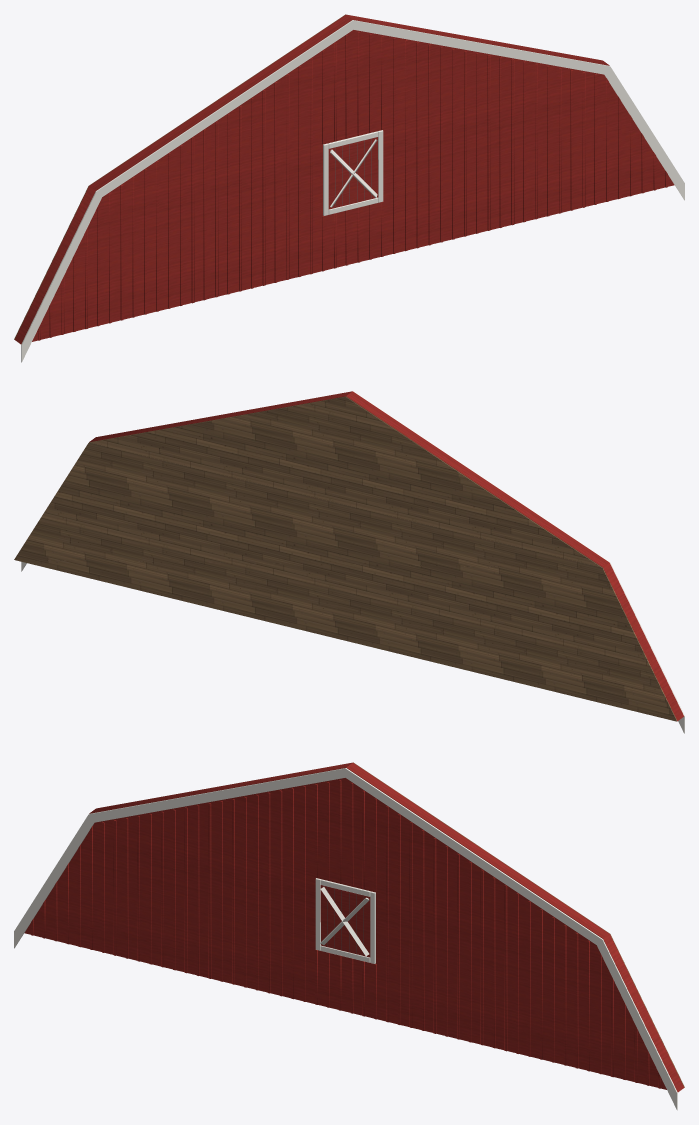
File: barn_gable_back.glb
The picture shows the model from 3 angles, top to bottom: view 1: azimuth 30°, elevation 25°; view 2: azimuth 150°, elevation 25°; view 3: azimuth 330°, elevation 25°; orthographic projection.
Parts seen in each view (by area): view 1: barn_gable_back_barn, barn_gable_back_trim; view 2: barn_gable_back_planks, barn_gable_back_barn, barn_gable_back_trim; view 3: barn_gable_back_barn, barn_gable_back_trim.
Part boxes in pixels (box(x1,y1,x2,y2)): barn_gable_back_barn: box(14, 14, 674, 344); barn_gable_back_trim: box(21, 20, 684, 362); barn_gable_back_planks: box(14, 396, 677, 721); barn_gable_back_barn: box(89, 391, 683, 721); barn_gable_back_trim: box(21, 391, 684, 733); barn_gable_back_barn: box(24, 762, 684, 1092); barn_gable_back_trim: box(14, 768, 677, 1110).
Bounding box in the file's own units: 16 × 6.03 × 0.3887.
Materials: 4 (2 with a texture image).
